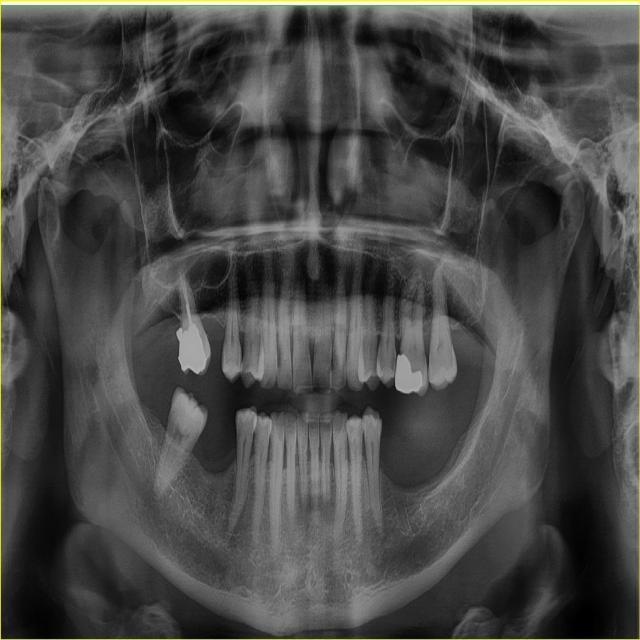71: (185, 303, 193, 324)
74: (179, 266, 187, 302), (181, 278, 189, 306)
NucleOSS Implant: (169, 322, 210, 380), (395, 353, 423, 394)
Sterngold Implant: (324, 343, 332, 380), (388, 347, 398, 376), (277, 340, 284, 369), (332, 346, 339, 374), (397, 344, 405, 356)
